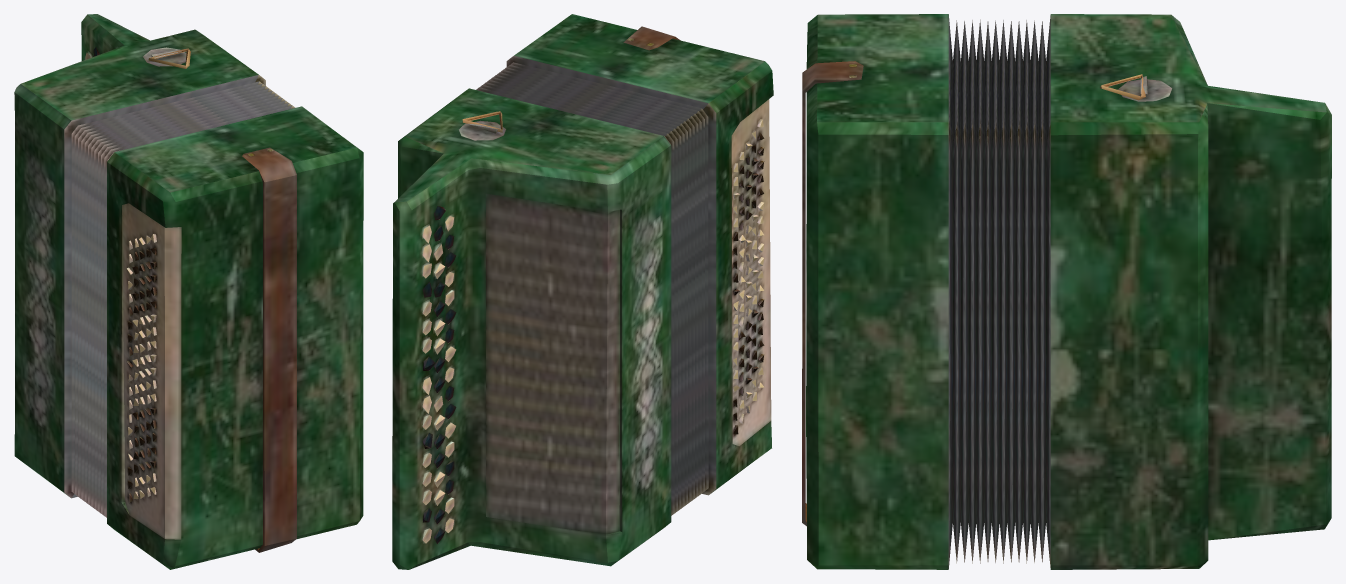
Rendered from accordion-button.lod1.glb.
3 views of the same model, side by side, from view 1: azimuth 30°, elevation 25°; view 2: azimuth 150°, elevation 25°; view 3: azimuth 270°, elevation 25° (orthographic). The views are drawn at different scales.
Parts seen in each view (by area): view 1: accordion-button; view 2: accordion-button; view 3: accordion-button.
Part boxes in pixels (<box>): accordion-button: <box>14,14,363,569</box>; accordion-button: <box>392,14,773,569</box>; accordion-button: <box>802,14,1331,569</box>.
Size of the model in its own units: 0.2353 by 0.4297 by 0.4492.
Materials: 1 (1 with a texture image).
